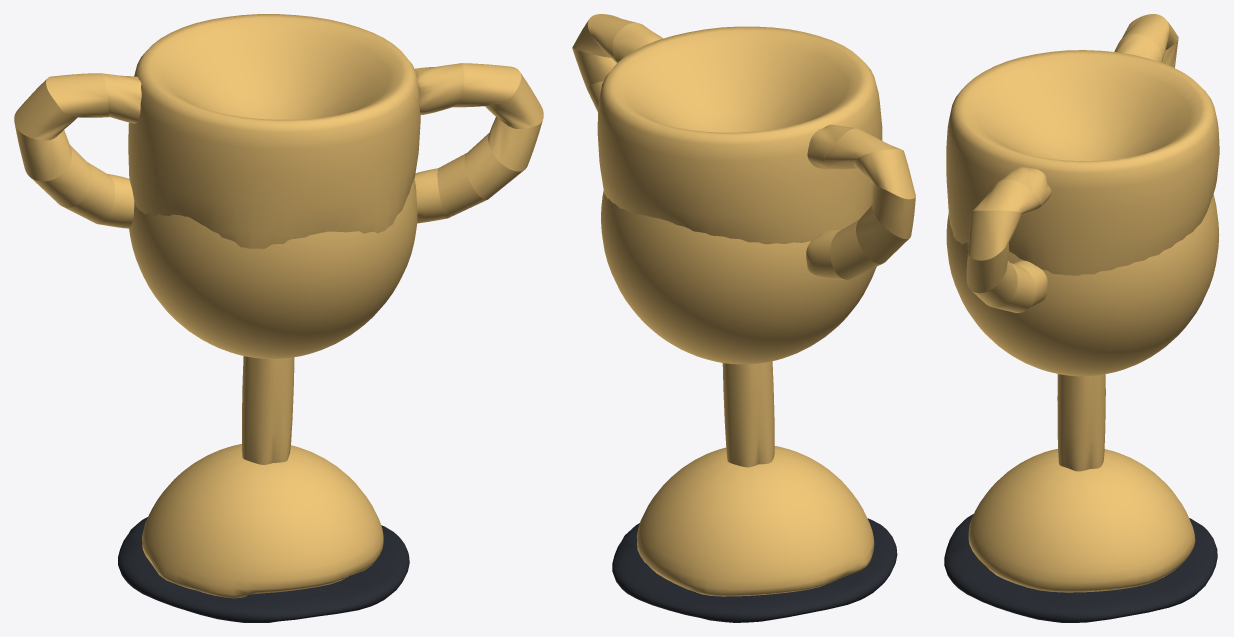
Rendered from trophy.glb.
The picture shows the model from 3 angles, left to right: view 1: azimuth 30°, elevation 25°; view 2: azimuth 150°, elevation 25°; view 3: azimuth 270°, elevation 25°; orthographic projection. The views are drawn at different scales.
Visible parts, largest first — view 1: trophy-body; view 2: trophy-body; view 3: trophy-body.
Part boxes in pixels (x1,y1,x2,y2): trophy-body: (14, 14, 543, 622); trophy-body: (572, 14, 915, 622); trophy-body: (944, 14, 1219, 622).
Size of the model in its own units: 2.41 by 2.68 by 1.41.
